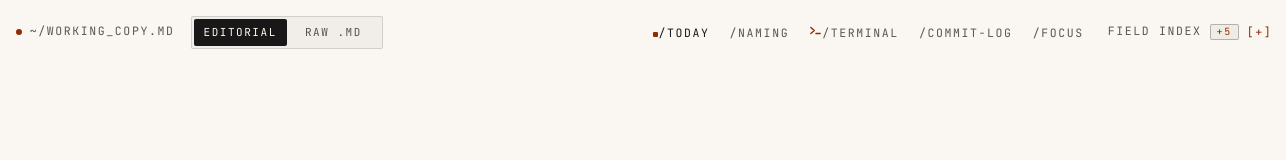
Test: Unified typed routes config (routes.ts) & author identity › renders only the 4 highest-priority links inline in Header, with sliding view-mode pill and gliding layoutId route indicator
The image size is (1286, 160).
Later steps or results of the test are not shown.
Expected: the text "+5" is shown, x1=1210 y1=24 x2=1239 y2=40
Hover over the link "/naming": {"x": 759, "y": 32} x1=730 y1=19 x2=789 y2=46
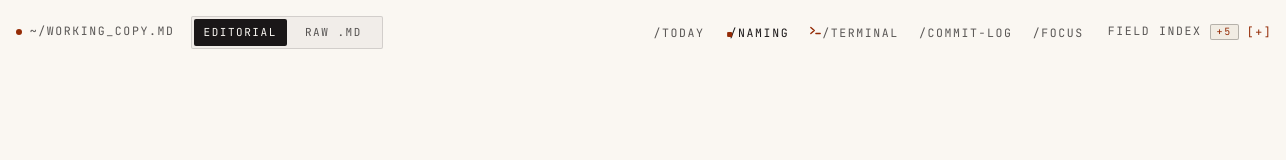
Expected: the text with test id "field-index-plus-glyph" reads "+", x1=1255 y1=22 x2=1264 y2=42
Now the link "/naming" has attribute data-active="true", box x1=724 y1=19 x2=789 y2=46
